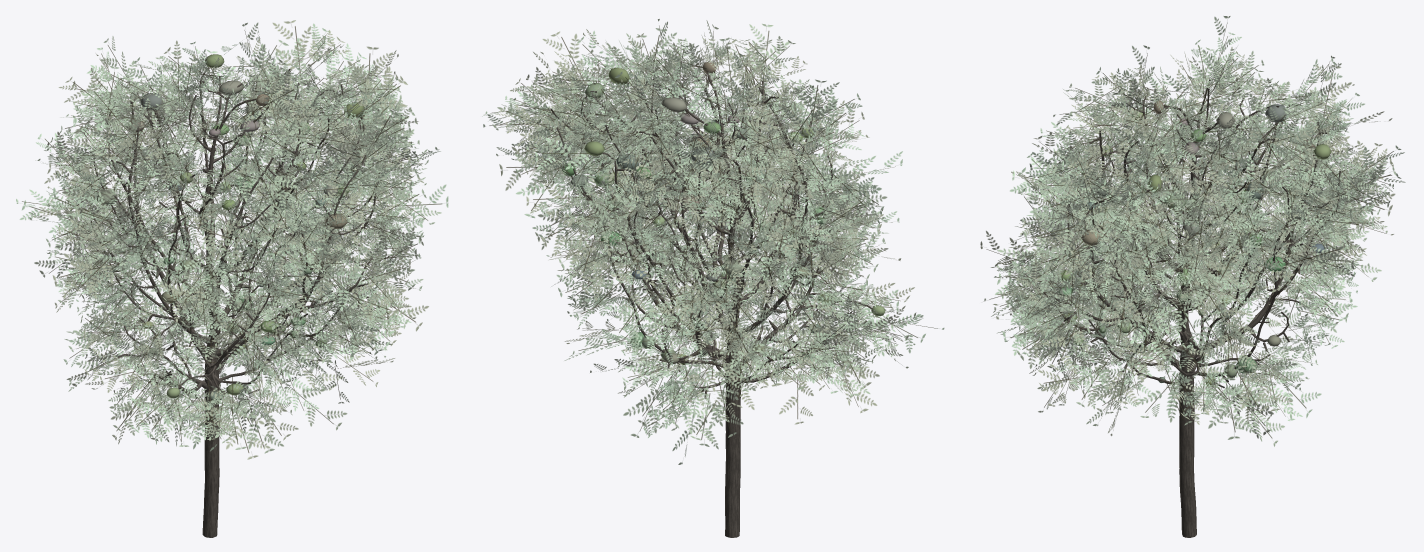
Rendered from tree_44_broadleaf.glb.
The picture shows the model from 3 angles, left to right: view 1: azimuth 30°, elevation 25°; view 2: azimuth 150°, elevation 25°; view 3: azimuth 270°, elevation 25°; orthographic projection. The views are drawn at different scales.
Parts seen in each view (by area): view 1: tree_44_broadleaf.leaves, tree_44_broadleaf.trunk_branches, tree_44_broadleaf.foliage_volume; view 2: tree_44_broadleaf.leaves, tree_44_broadleaf.trunk_branches, tree_44_broadleaf.foliage_volume; view 3: tree_44_broadleaf.leaves, tree_44_broadleaf.trunk_branches, tree_44_broadleaf.foliage_volume.
Boxes of the visible parts, box(x1,y1,x2,y2) form: tree_44_broadleaf.leaves: box(16, 20, 448, 459); tree_44_broadleaf.trunk_branches: box(90, 67, 380, 537); tree_44_broadleaf.foliage_volume: box(96, 54, 367, 400); tree_44_broadleaf.leaves: box(482, 19, 944, 464); tree_44_broadleaf.trunk_branches: box(550, 70, 872, 537); tree_44_broadleaf.foliage_volume: box(562, 62, 885, 364); tree_44_broadleaf.leaves: box(980, 16, 1405, 446); tree_44_broadleaf.trunk_branches: box(1039, 79, 1340, 537); tree_44_broadleaf.foliage_volume: box(1058, 100, 1331, 386).
Bounding box in the file's own units: 9.46 × 11.65 × 9.35.
3 materials, 2 textured.
